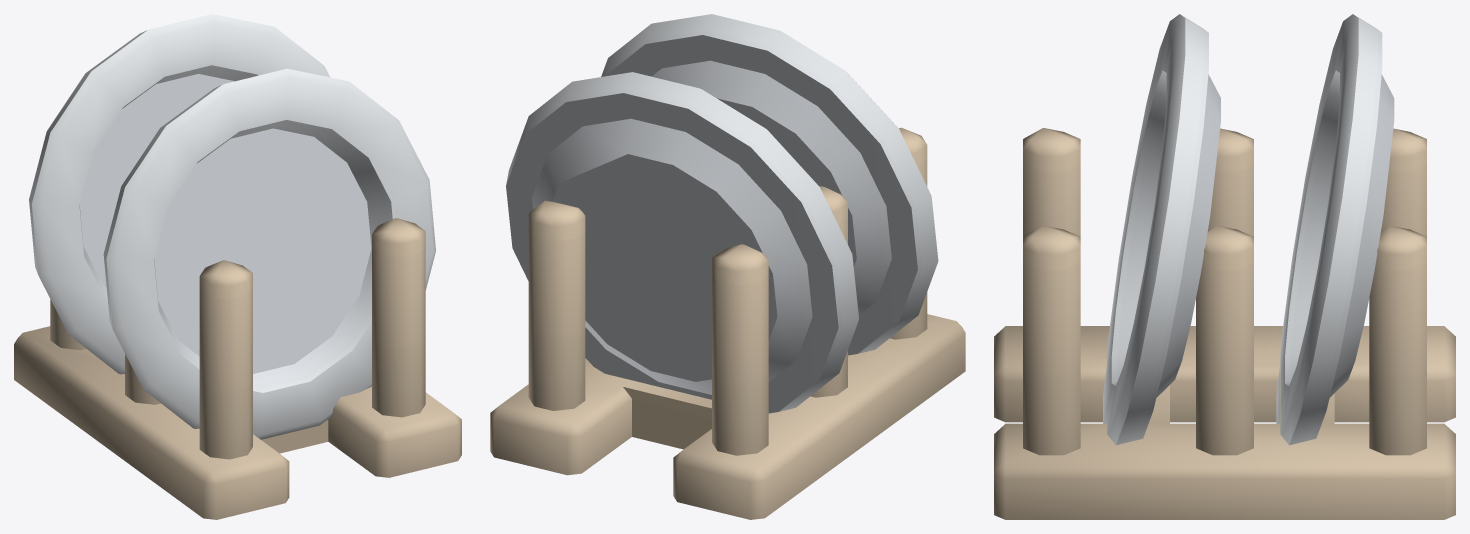
Rendered from kitchen-dishrack.glb.
3 renders of one model, left to right at view 1: azimuth 30°, elevation 25°; view 2: azimuth 150°, elevation 25°; view 3: azimuth 270°, elevation 25°, orthographic. The views are drawn at different scales.
Visible parts, largest first — view 1: dishrack_plates; view 2: dishrack_plates; view 3: dishrack_plates.
Part boxes in pixels (bbox=[...]): dishrack_plates: bbox=[14, 14, 461, 519]; dishrack_plates: bbox=[490, 14, 965, 519]; dishrack_plates: bbox=[994, 14, 1455, 519].
Size of the model in its own units: 0.75 by 0.7841 by 0.8.
1 material, 1 textured.
